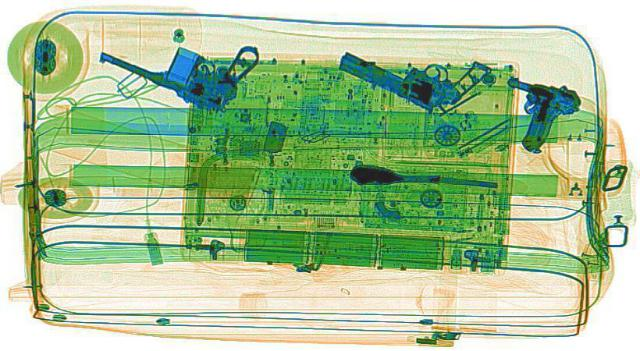Gun: (82, 7, 302, 114), (324, 22, 506, 111), (476, 76, 590, 153)
